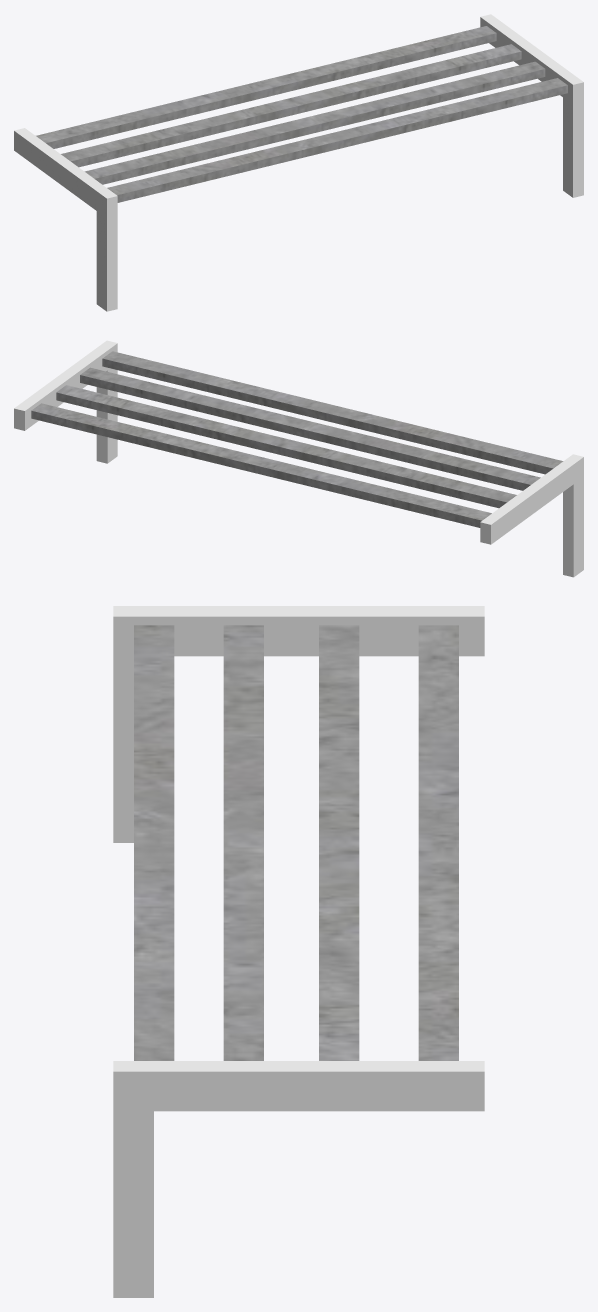
Rendered from Shelf.glb.
3 renders of one model, top to bottom at view 1: azimuth 30°, elevation 25°; view 2: azimuth 150°, elevation 25°; view 3: azimuth 270°, elevation 25°, orthographic. The views are drawn at different scales.
Visible parts, largest first — view 1: Shelf; view 2: Shelf; view 3: Shelf.
Boxes of the visible parts, <box> form: Shelf: <box>14,14,583,311</box>; Shelf: <box>14,340,583,577</box>; Shelf: <box>113,606,484,1297</box>.
Bounding box in the file's own units: 0.9774 × 0.2215 × 0.3297.
Materials: 2 (1 with a texture image).
